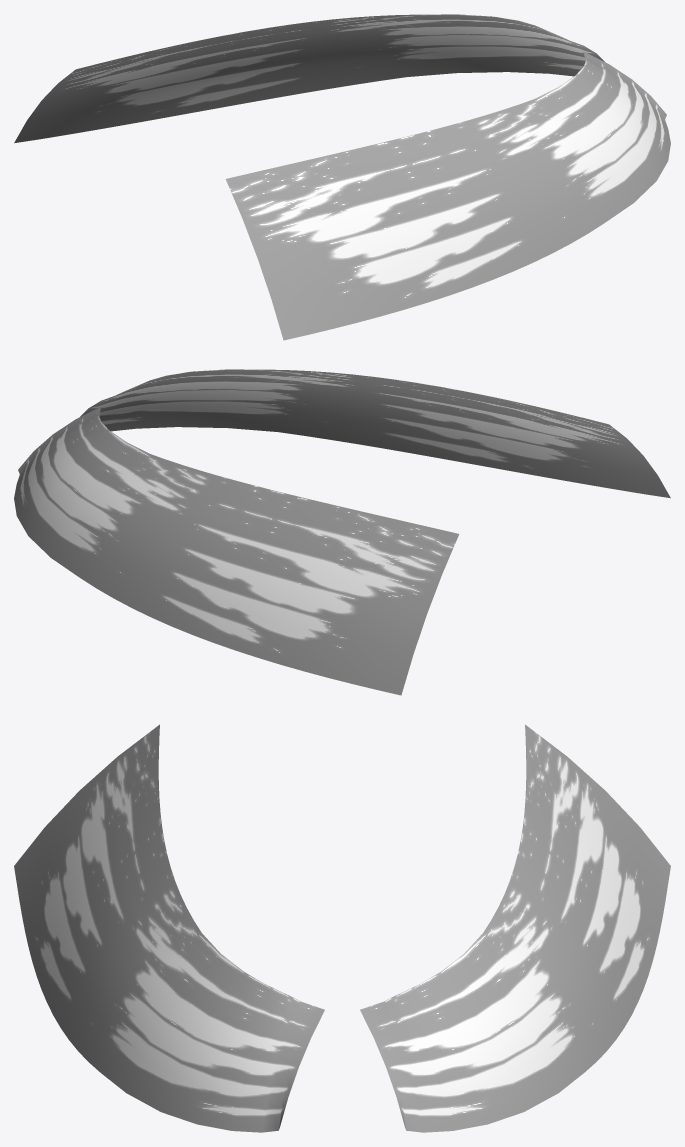
File: qilang_135.FBX
3 renders of one model, top to bottom at view 1: azimuth 30°, elevation 25°; view 2: azimuth 150°, elevation 25°; view 3: azimuth 270°, elevation 25°, orthographic. The views are drawn at different scales.
Visible parts, largest first — view 1: qilang_135; view 2: qilang_135; view 3: qilang_135.
Part boxes in pixels (x1,y1,x2,y2): qilang_135: (14, 14, 670, 340); qilang_135: (14, 369, 670, 695); qilang_135: (14, 724, 670, 1132).
Size of the model in its own units: 101 by 23.85 by 95.64.
